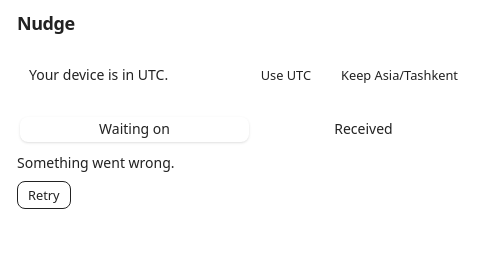
Test: shows the API message and retries the list
Expected: the message reads "Something went wrong.", [17,153,175,172]
What coordinates should you click on to do the following:
click the button "Retry"
I would click on:
 (44, 195)
Its box is [17,181,71,209].
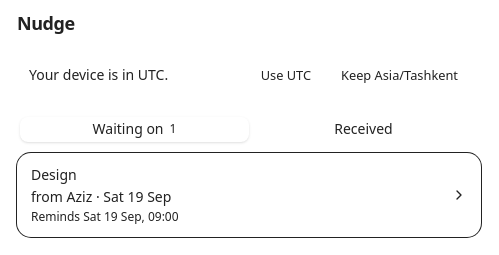
Result: the button "Design from Aziz · Sat 19 Sep Reminds Sat 19 Sep, 09:00" is shown at [17,153,481,237]
Result: the message "Something went wrong." is gone
